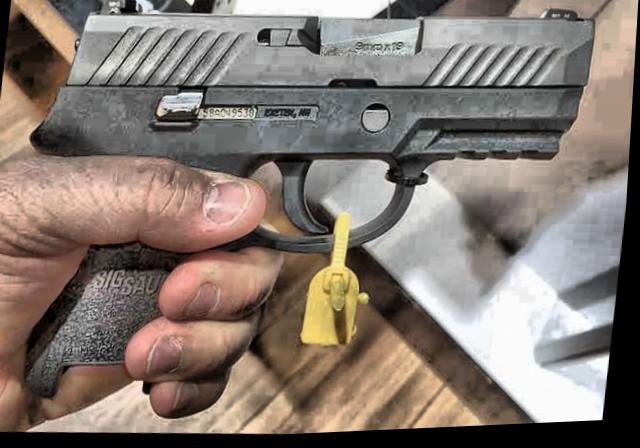pistol: (2, 0, 600, 427)
